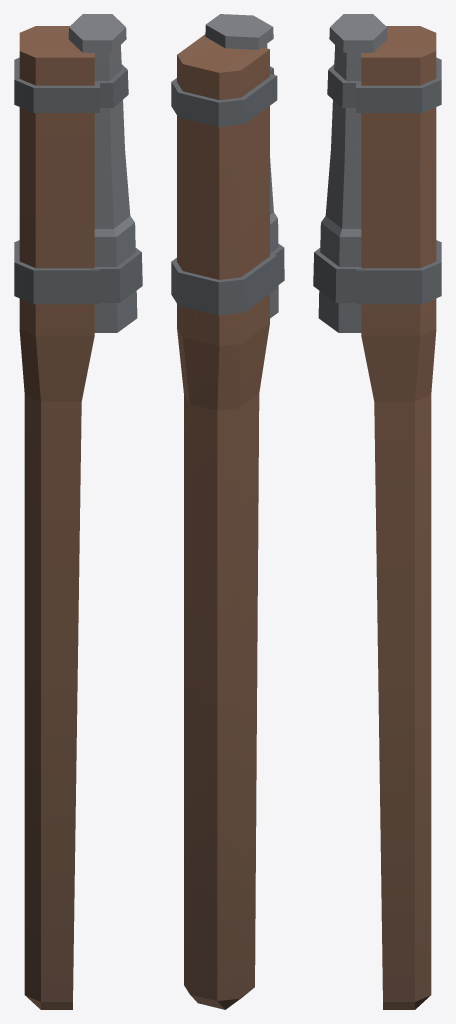
File: handgun_sign.fbx
The picture shows the model from 3 angles, left to right: view 1: azimuth 90°, elevation 25°; view 2: azimuth 150°, elevation 25°; view 3: azimuth 270°, elevation 25°; orthographic projection.
Parts seen in each view (by area): view 1: handgun_sign; view 2: handgun_sign; view 3: handgun_sign.
Part boxes in pixels (x1=…): handgun_sign: x1=14, y1=14, x2=142, y2=1009; handgun_sign: x1=171, y1=14, x2=284, y2=1009; handgun_sign: x1=313, y1=14, x2=441, y2=1009.
Size of the model in its own units: 0.3815 by 4.79 by 0.5714.
1 material, 1 textured.
